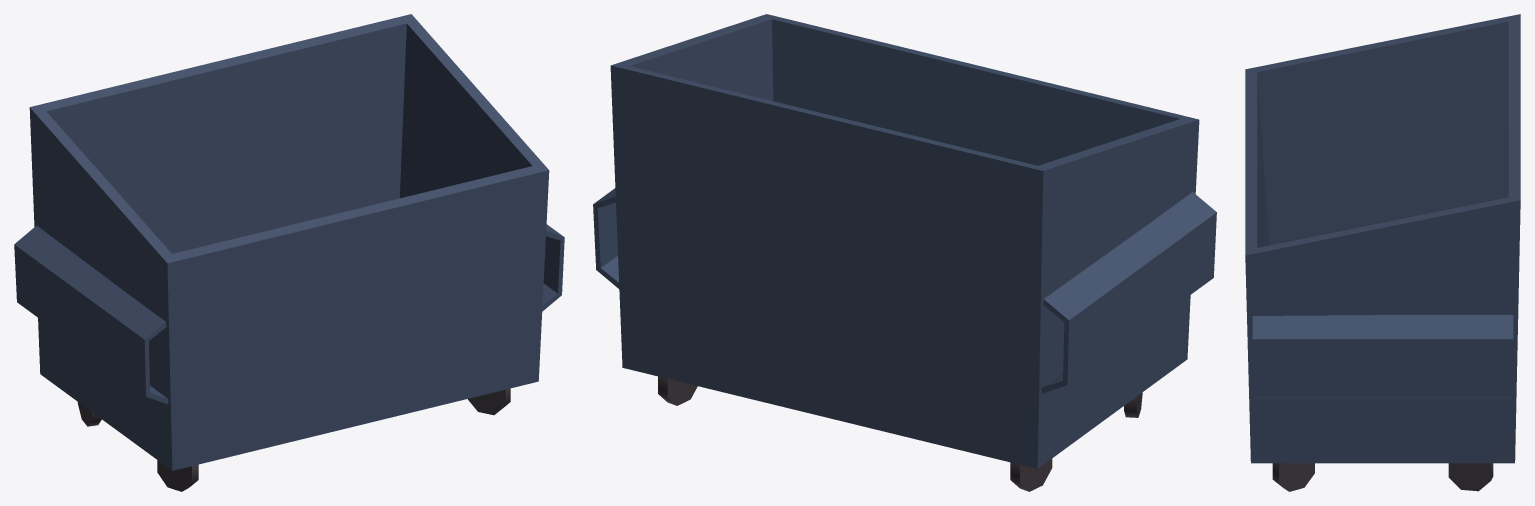
File: Dumpster_01.fbx
3 renders of one model, left to right at view 1: azimuth 30°, elevation 25°; view 2: azimuth 150°, elevation 25°; view 3: azimuth 270°, elevation 25°, orthographic. The views are drawn at different scales.
Visible parts, largest first — view 1: Dumpster; view 2: Dumpster; view 3: Dumpster.
Part boxes in pixels (box(x1,y1,x2,y2)): Dumpster: box(14, 14, 564, 491); Dumpster: box(593, 14, 1216, 491); Dumpster: box(1245, 14, 1520, 491).
Size of the model in its own units: 1.76 by 1.22 by 1.
